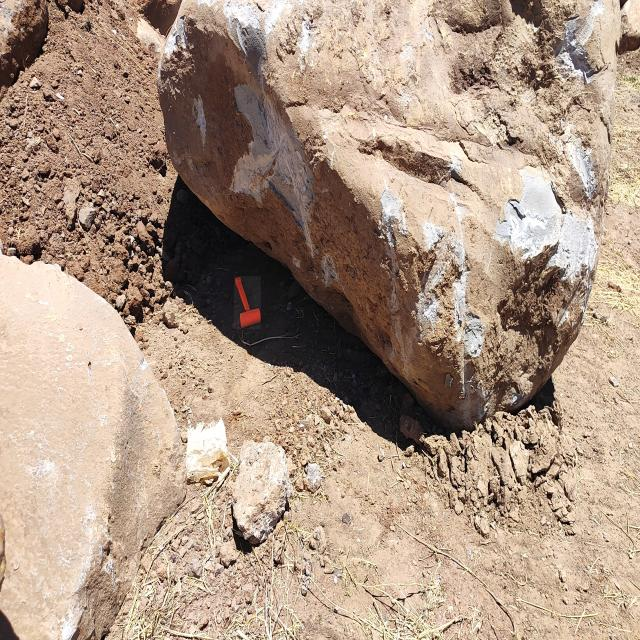Orange_hammer: (234, 276, 261, 329)
